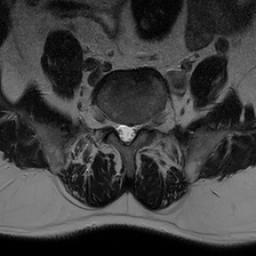CCS_normal: (123, 118, 130, 149)
LFS_stenosis: (137, 115, 144, 136)
LLS_normal: (130, 118, 137, 145)
RFS_normal: (108, 112, 116, 133)
RLS_normal: (116, 117, 123, 144)
